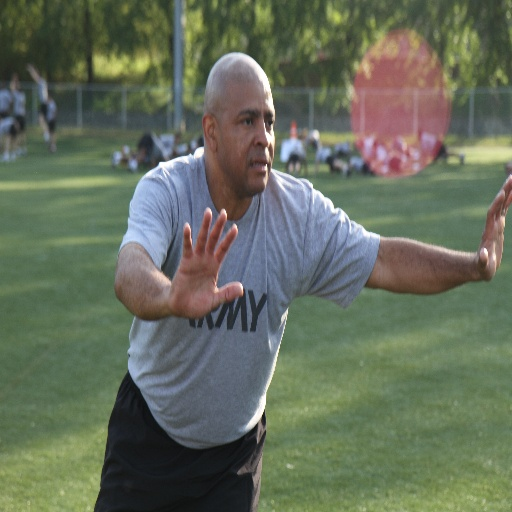hand: (152, 208, 242, 338), (474, 171, 511, 284)
